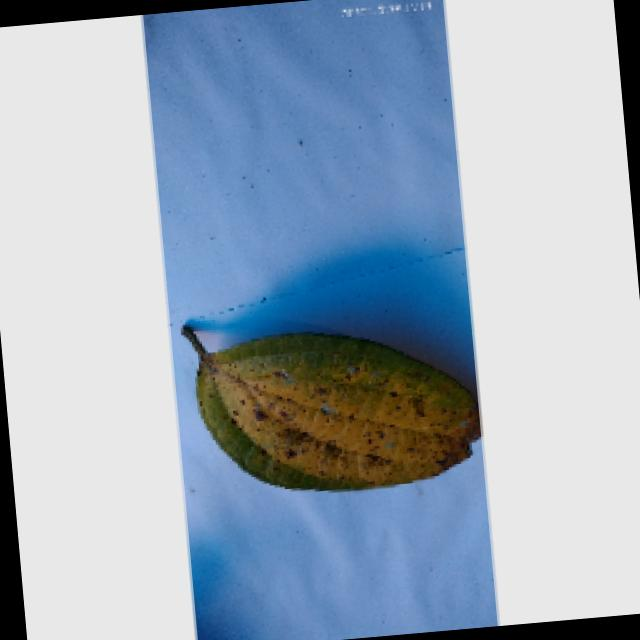slow-decline: (172, 297, 485, 512)
